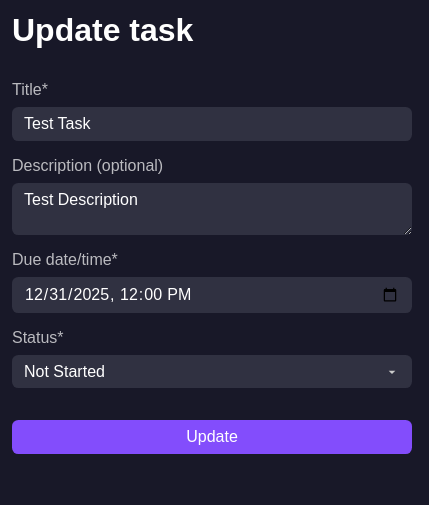
Test case: UpdateForm › should display error message when there is an error during task update
Step 1. Replace the text in the field with test id "task-title-input" with "Updated Test Task" → [212, 124], box [12,107,412,141]
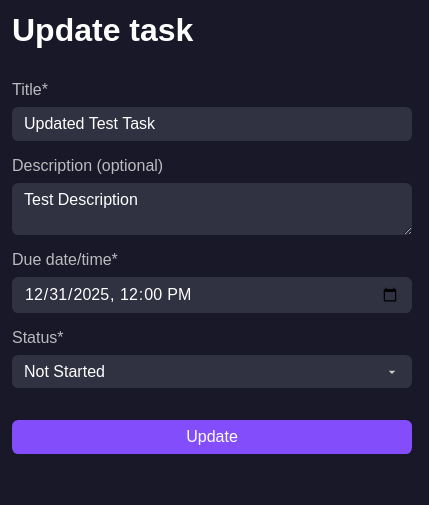
Step 2. Replace the text in the field with test id "task-due-input" with "2025-12-31T14:00" → [212, 295], box [12,277,412,313]
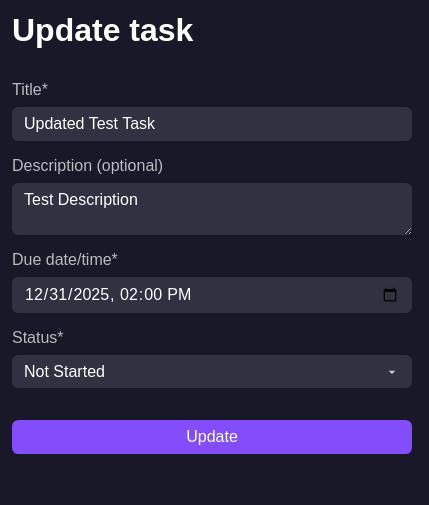
Step 3. Click the button with test id "task-update-button" → [212, 437], box [12,420,412,454]
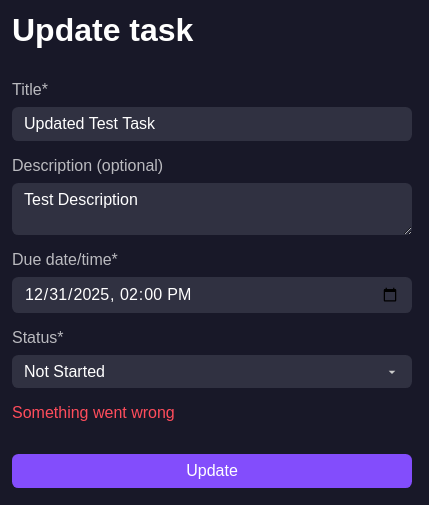
Result: the text with test id "task-error" reads "Something went wrong" at [12,404,175,421]
